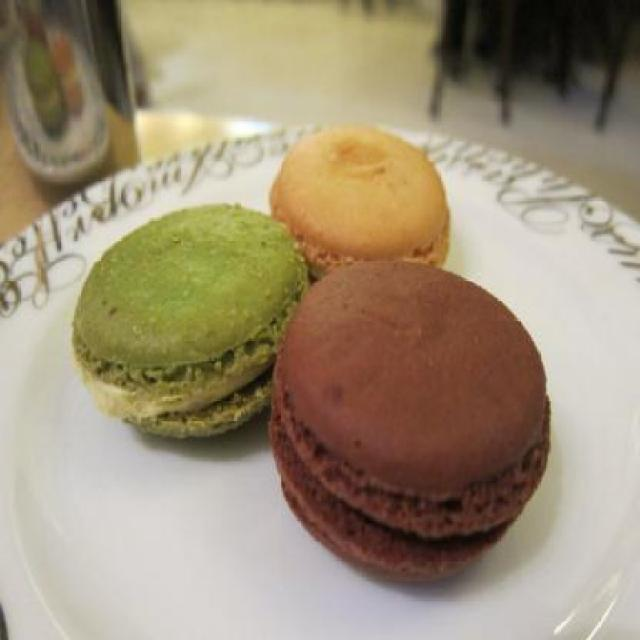Macaron: (69, 126, 602, 592)
